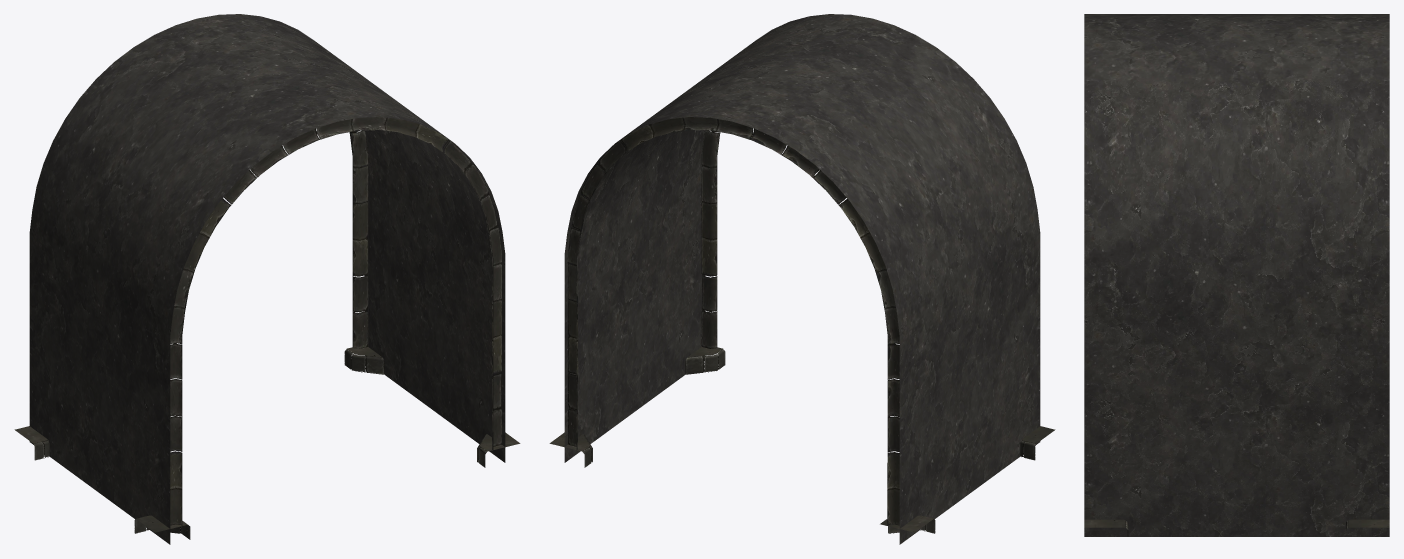
The picture shows the model from 3 angles, left to right: view 1: azimuth 30°, elevation 25°; view 2: azimuth 150°, elevation 25°; view 3: azimuth 270°, elevation 25°; orthographic projection. The views are drawn at different scales.
Visible parts, largest first — view 1: SM_Dowdun_Vaulted_Tunnel_12x8_01_LOD0; view 2: SM_Dowdun_Vaulted_Tunnel_12x8_01_LOD0; view 3: SM_Dowdun_Vaulted_Tunnel_12x8_01_LOD0.
Boxes of the visible parts, x1=… form: SM_Dowdun_Vaulted_Tunnel_12x8_01_LOD0: x1=14, y1=14, x2=520, y2=544; SM_Dowdun_Vaulted_Tunnel_12x8_01_LOD0: x1=549, y1=14, x2=1055, y2=544; SM_Dowdun_Vaulted_Tunnel_12x8_01_LOD0: x1=1084, y1=14, x2=1389, y2=536.
Bounding box in the file's own units: 12 × 12 × 8.
Materials: 2 (2 with a texture image).
